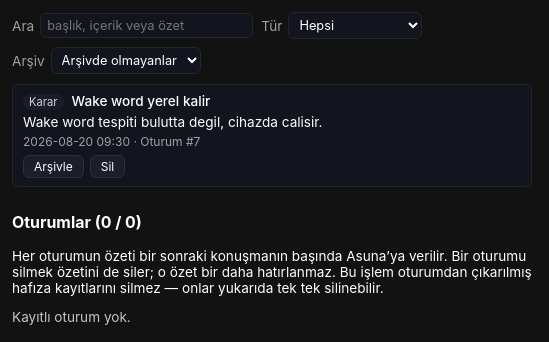
it: MemoryView — silme › vazgecince kayit yerinde kalir
The image size is (549, 342).
Check: the heading "Wake word yerel kalir" is shown, box [72,93,210,109]
What coordinates should you click on to do the following:
click the button with aria-label "Sil: Wake word yerel kalir"
I would click on:
 (108, 166)
Its box is [90,155,125,178].
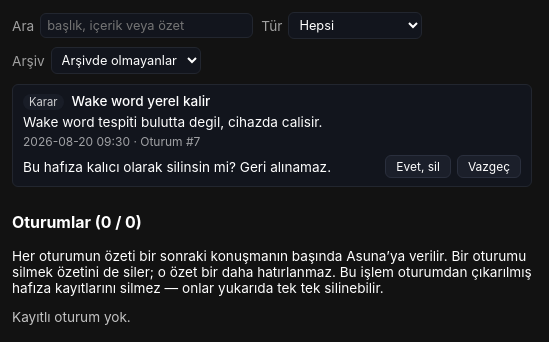
What coordinates should you click on to do the following:
click the button "Vazgeç"
I would click on:
 (489, 166)
Its box is [457,155,521,178].
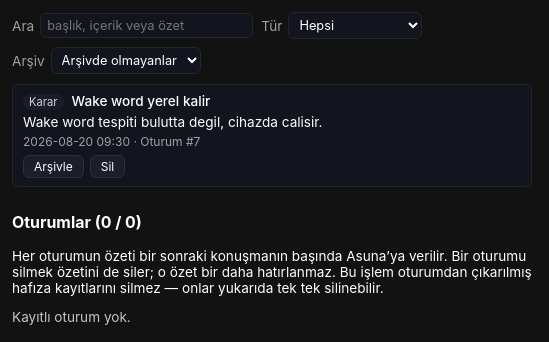
Check: the button with aria-label "Sil: Wake word yerel kalir" is shown, box [90,155,125,178]
